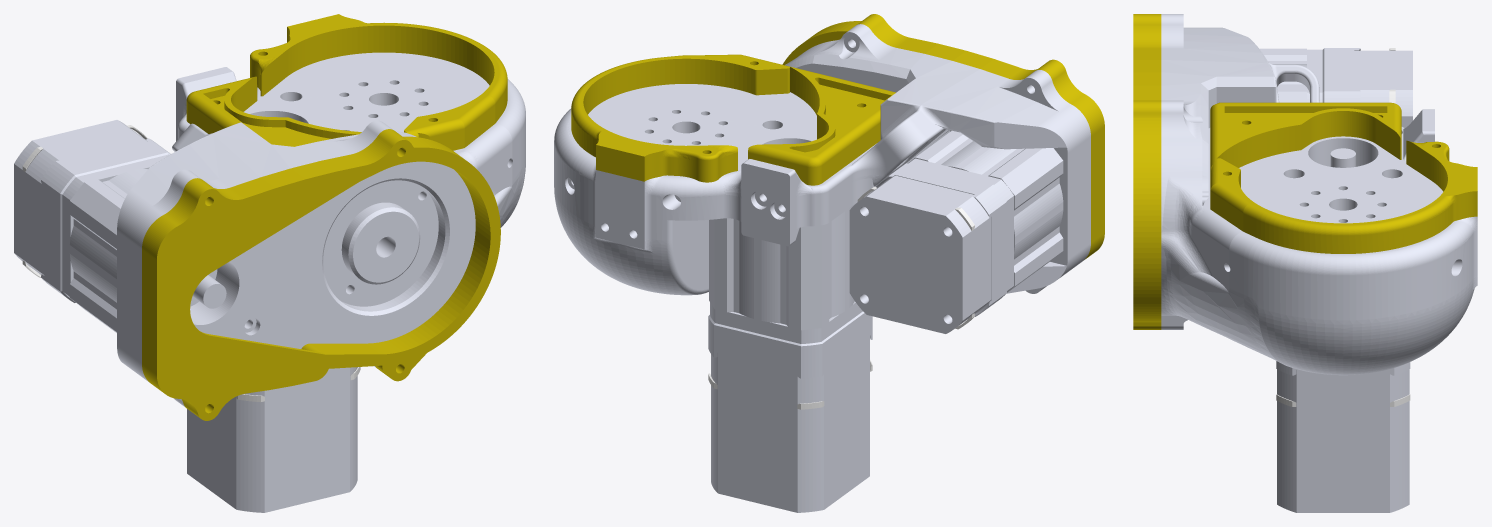
The picture shows the model from 3 angles, left to right: view 1: azimuth 30°, elevation 25°; view 2: azimuth 150°, elevation 25°; view 3: azimuth 270°, elevation 25°; orthographic projection. The views are drawn at different scales.
Visible parts, largest first — view 1: link1; view 2: link1; view 3: link1.
Part boxes in pixels (<box>): link1: <box>14,14,525,512</box>; link1: <box>554,14,1104,512</box>; link1: <box>1133,14,1477,512</box>.
Size of the model in its own units: 0.1593 by 0.1089 by 0.1365.
